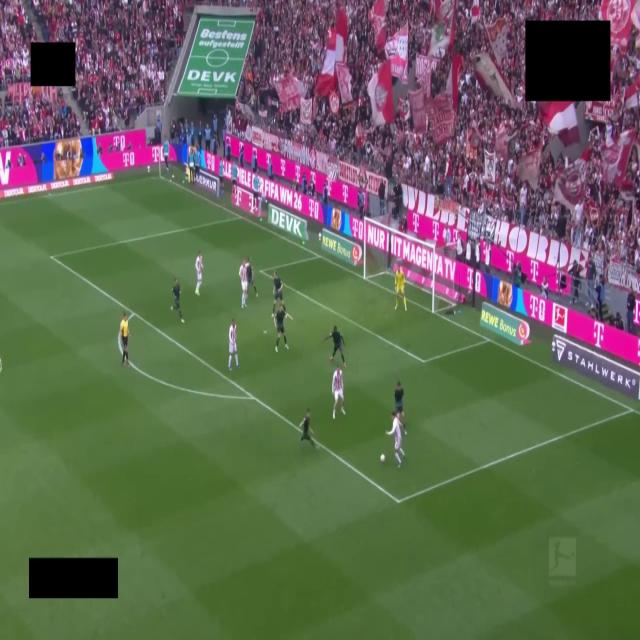ball: (380, 455, 384, 463)
player: (386, 412, 404, 467), (324, 326, 346, 367), (274, 304, 292, 351), (332, 367, 345, 419), (394, 382, 406, 434), (299, 409, 315, 447), (172, 279, 184, 323), (228, 319, 238, 370), (395, 268, 406, 310), (239, 260, 248, 309), (246, 257, 257, 296), (273, 272, 282, 314), (195, 252, 203, 295)
referee: (119, 312, 129, 366)
